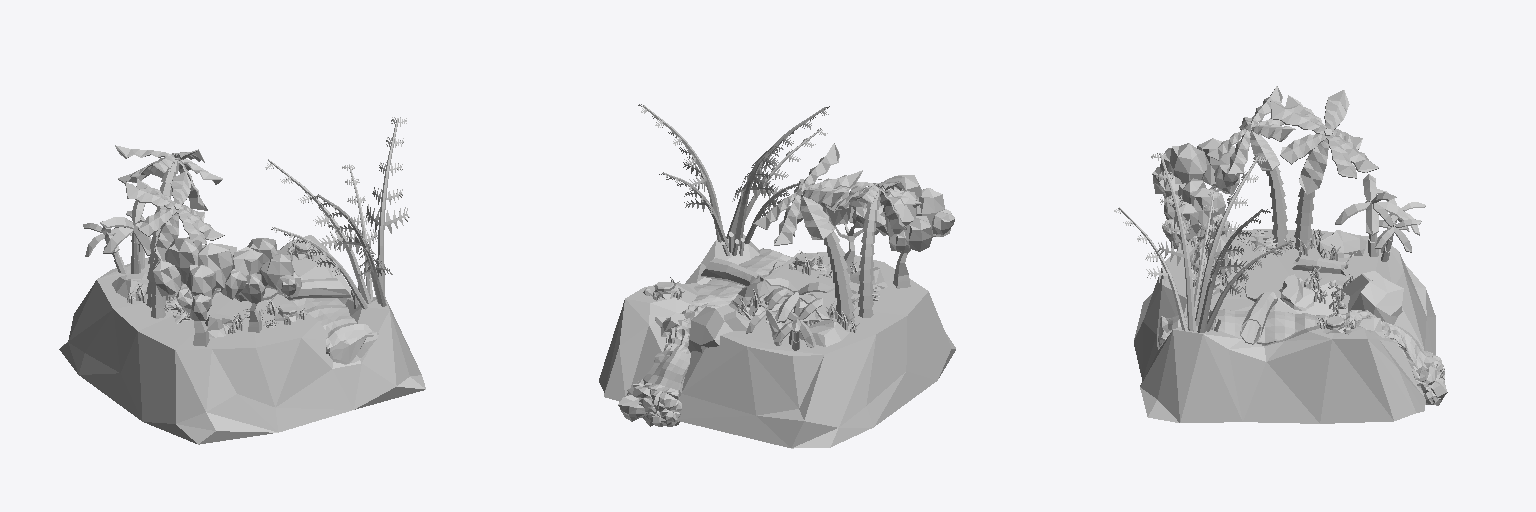
Rendered from island.obj.
The picture shows the model from 3 angles: view 1: azimuth 30°, elevation 25°; view 2: azimuth 150°, elevation 25°; view 3: azimuth 270°, elevation 25°; orthographic projection.
Visible parts, largest first — view 1: Landscape.002_Landscape.000, Landscape.003_Landscape.004; view 2: Landscape.002_Landscape.000, Landscape.003_Landscape.004; view 3: Landscape.002_Landscape.000, Landscape.003_Landscape.004.
Part boxes in pixels (bbox=[...]): Landscape.002_Landscape.000: bbox=[59, 117, 425, 444]; Landscape.003_Landscape.004: bbox=[289, 277, 378, 364]; Landscape.002_Landscape.000: bbox=[599, 104, 955, 448]; Landscape.003_Landscape.004: bbox=[618, 248, 791, 426]; Landscape.002_Landscape.000: bbox=[1114, 86, 1435, 423]; Landscape.003_Landscape.004: bbox=[1158, 309, 1447, 405].
Size of the model in its own units: 20.69 by 17.49 by 21.22.